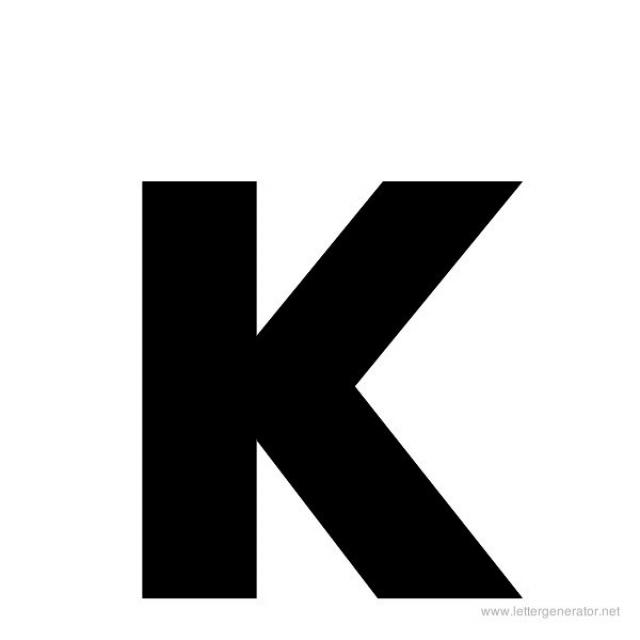K: (76, 133, 574, 622)
